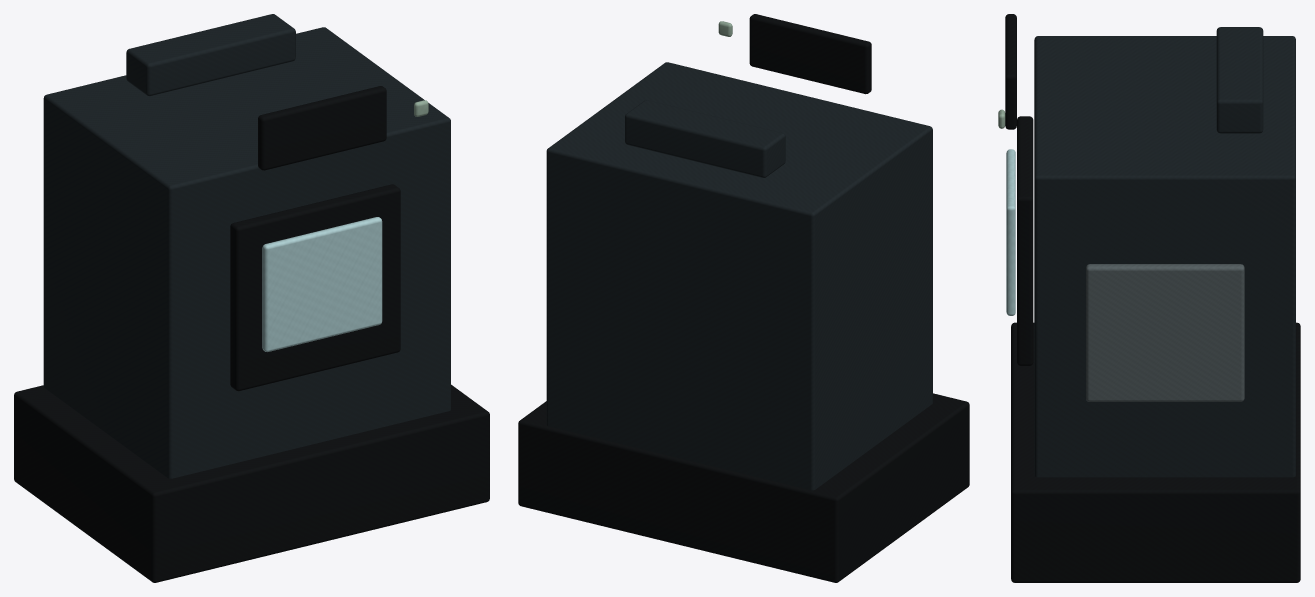
Rendered from PortableSpecimenScanner.fbx.
The picture shows the model from 3 angles, left to right: view 1: azimuth 30°, elevation 25°; view 2: azimuth 150°, elevation 25°; view 3: azimuth 270°, elevation 25°; orthographic projection. The views are drawn at different scales.
Visible parts, largest first — view 1: PortableSpecimenScanner_Mesh; view 2: PortableSpecimenScanner_Mesh; view 3: PortableSpecimenScanner_Mesh.
Part boxes in pixels (left/top/right/bottom): PortableSpecimenScanner_Mesh: left=14, top=14, right=489, bottom=582; PortableSpecimenScanner_Mesh: left=518, top=14, right=969, bottom=582; PortableSpecimenScanner_Mesh: left=998, top=14, right=1300, bottom=582.
Bounding box in the file's own units: 86 × 108 × 64.75.
